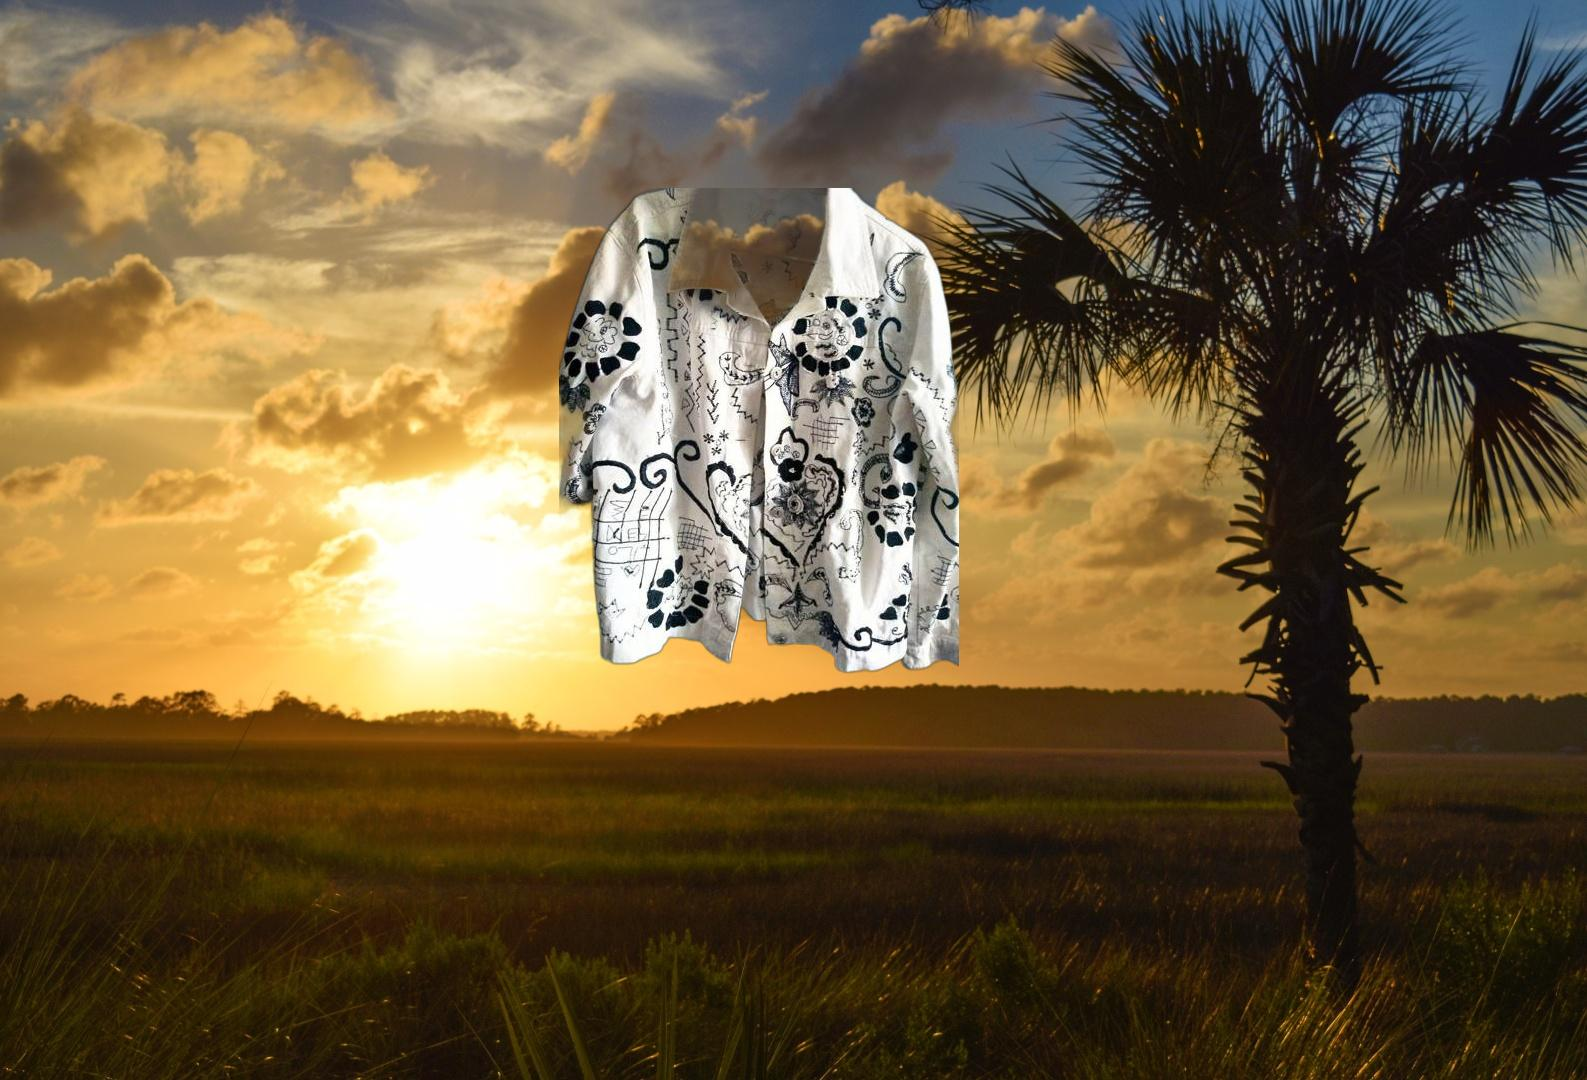clothes: (559, 188, 959, 677)
